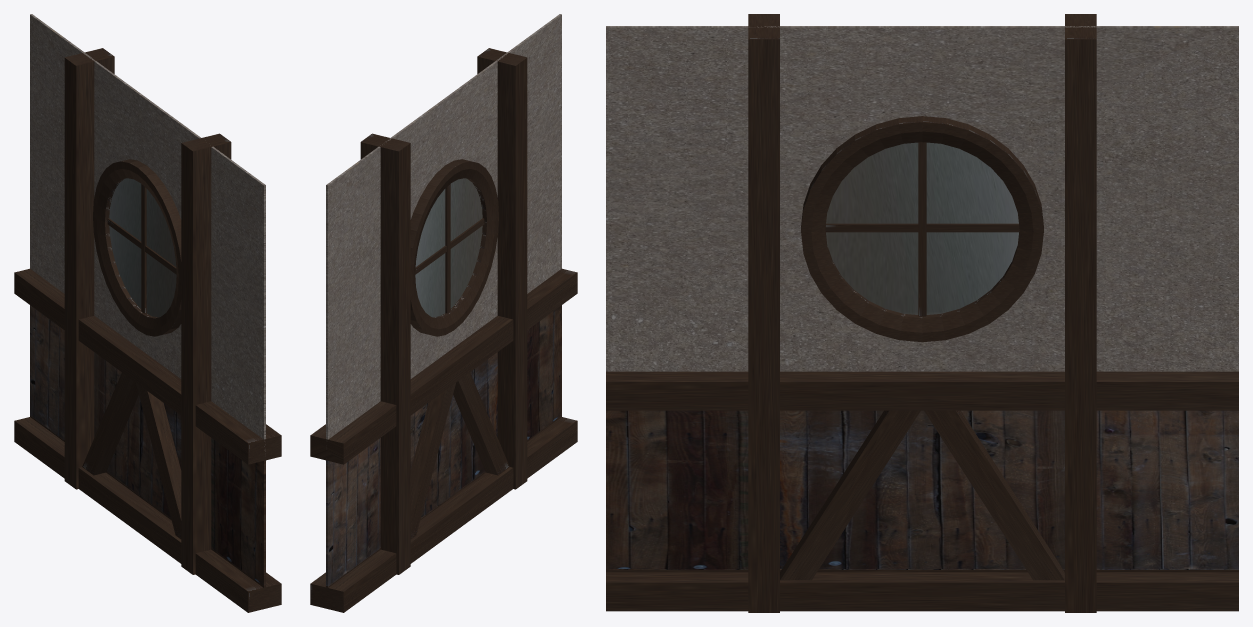
The model's file is OutdoorArchitecture_BasicWall02_Window02_NoEdges_BShortt.fbx.
The picture shows the model from 3 angles, left to right: view 1: azimuth 30°, elevation 25°; view 2: azimuth 150°, elevation 25°; view 3: azimuth 270°, elevation 25°; orthographic projection. The views are drawn at different scales.
Visible parts, largest first — view 1: OutdoorArchitecture_BasicWall02_Window02_NoEdges_BShortt; view 2: OutdoorArchitecture_BasicWall02_Window02_NoEdges_BShortt; view 3: OutdoorArchitecture_BasicWall02_Window02_NoEdges_BShortt.
Boxes of the visible parts, x1,y1,x2,y2 form: OutdoorArchitecture_BasicWall02_Window02_NoEdges_BShortt: (14, 14, 281, 612); OutdoorArchitecture_BasicWall02_Window02_NoEdges_BShortt: (310, 14, 577, 612); OutdoorArchitecture_BasicWall02_Window02_NoEdges_BShortt: (606, 14, 1238, 612).
Size of the model in its own units: 28.5 by 300 by 300.
